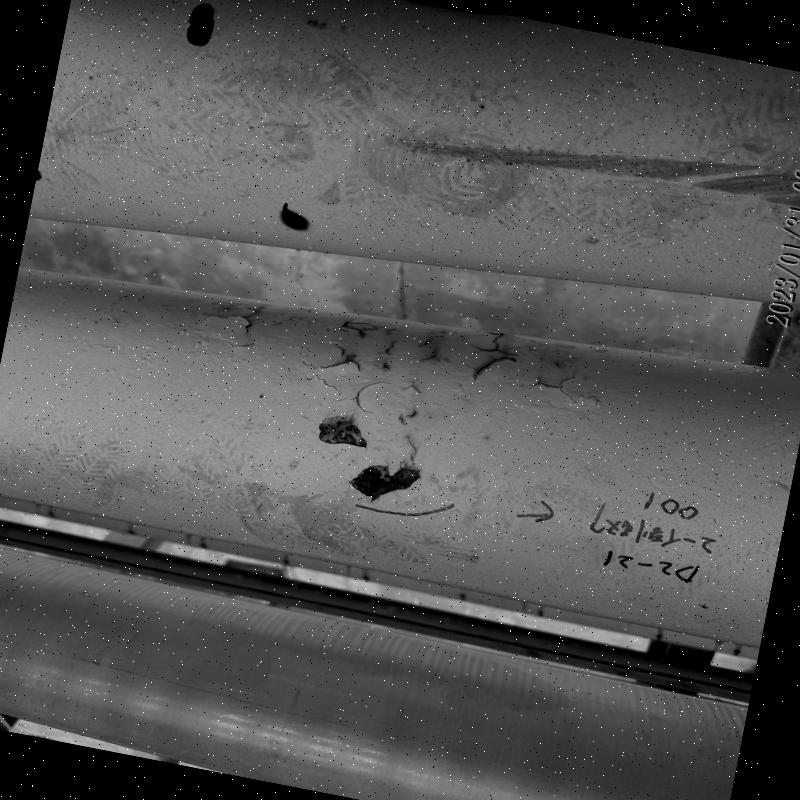corrosion: (354, 450, 415, 506), (180, 6, 211, 50), (326, 408, 356, 447)
